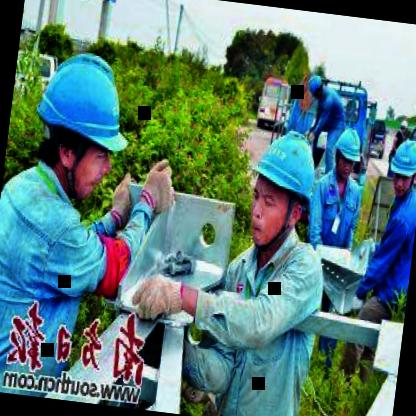helmet: (22, 30, 141, 207), (235, 121, 325, 252), (331, 122, 363, 178), (387, 134, 416, 195), (303, 72, 326, 100), (398, 116, 410, 136)
